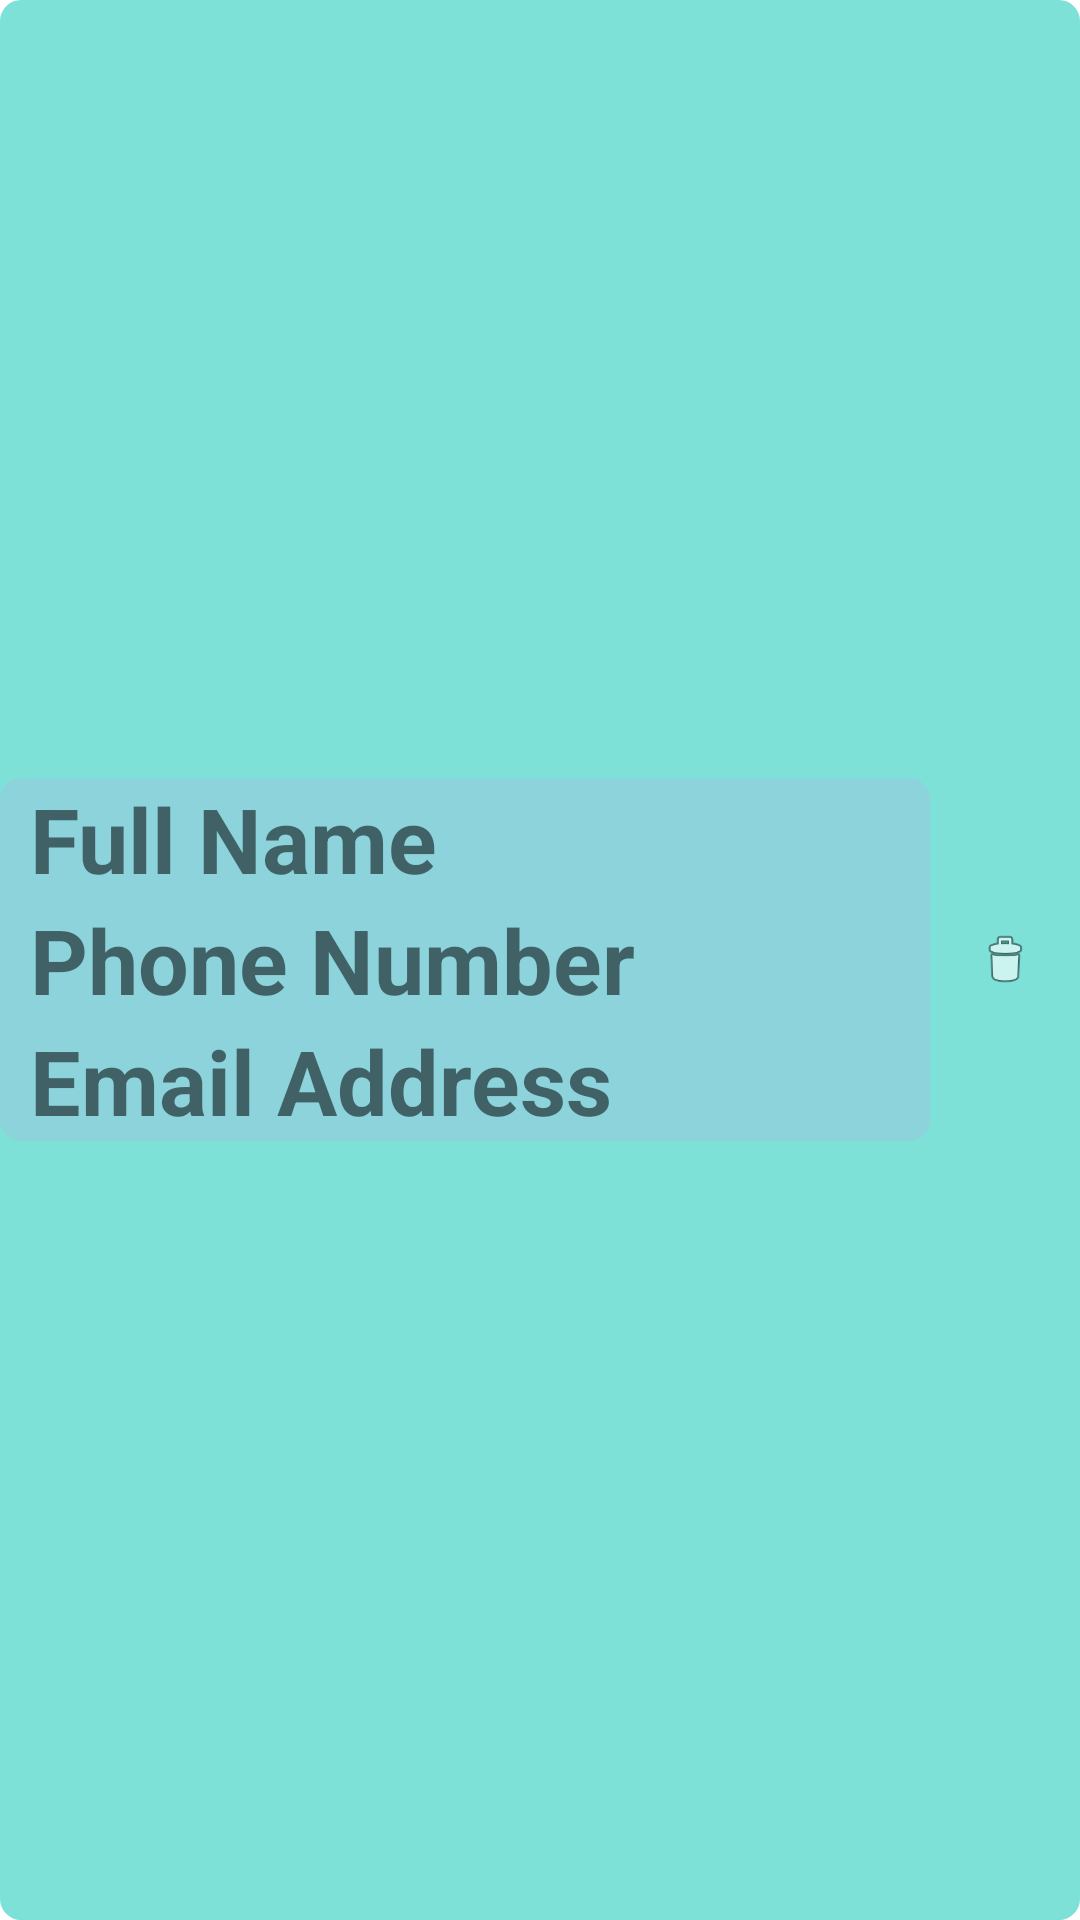

Icon bounding boxes for this 1080*1920 phone screenshot, format (left=x1, top=y1, right=x2, bottom=y2):
delete: (left=988, top=936, right=1022, bottom=983)
